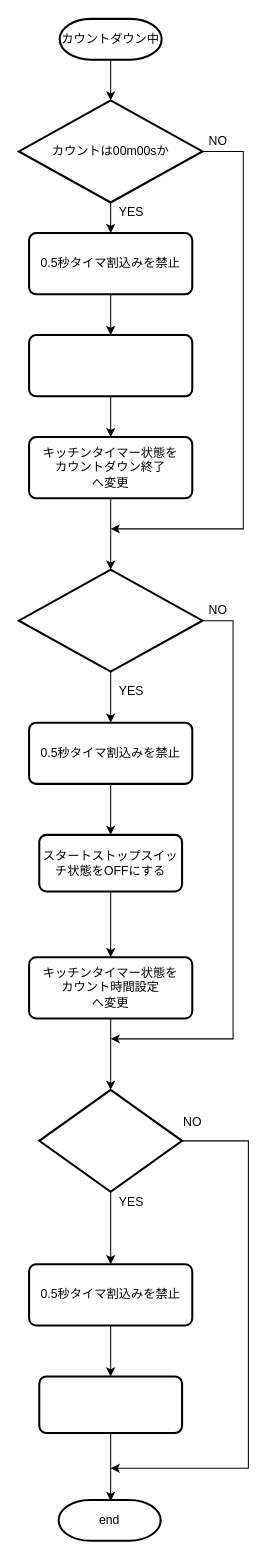
This 274x1559 diagram has some shape labels left out. Each missing label, with the centre of its shape:
カウントダウン終了カウントを0へ初期化: (x=110, y=365)
キッチンタイマー状態を リセット処理 へ変更: (x=110, y=1404)
スタートストップスイッチ 状態はONか: (x=110, y=620)
リセットスイッチ 状態はONか？: (x=110, y=1140)
